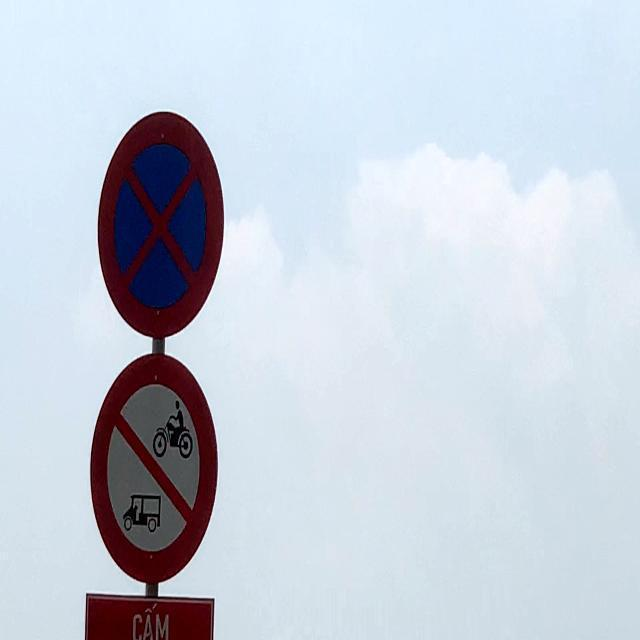130-cam-dung-va-do-xe: (94, 112, 226, 336)
